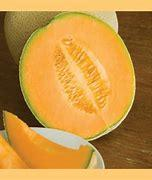Melon Ripe: (19, 12, 136, 140), (2, 109, 95, 168)
